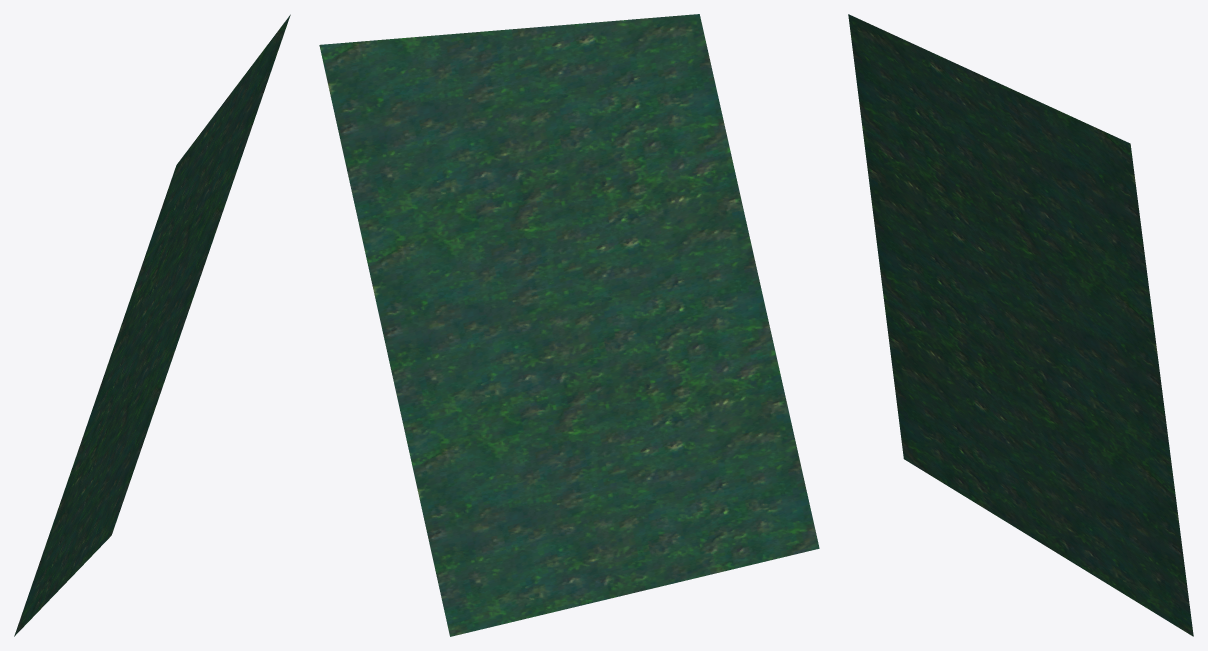
The model's file is MIRKWOOD_MIRK_PLAYSURFACE30.fbx.
3 views of the same model, side by side, from view 1: azimuth 30°, elevation 25°; view 2: azimuth 150°, elevation 25°; view 3: azimuth 270°, elevation 25° (orthographic). The views are drawn at different scales.
Parts seen in each view (by area): view 1: MIRKWOOD_MIRK_PLAYSURFACE30; view 2: MIRKWOOD_MIRK_PLAYSURFACE30; view 3: MIRKWOOD_MIRK_PLAYSURFACE30.
Boxes of the visible parts, x1,y1,x2,y2 form: MIRKWOOD_MIRK_PLAYSURFACE30: [14, 14, 290, 636]; MIRKWOOD_MIRK_PLAYSURFACE30: [319, 14, 819, 636]; MIRKWOOD_MIRK_PLAYSURFACE30: [848, 14, 1193, 636].
Size of the model in its own units: 27960 by 35881 by 19436.
Materials: 1 (1 with a texture image).
